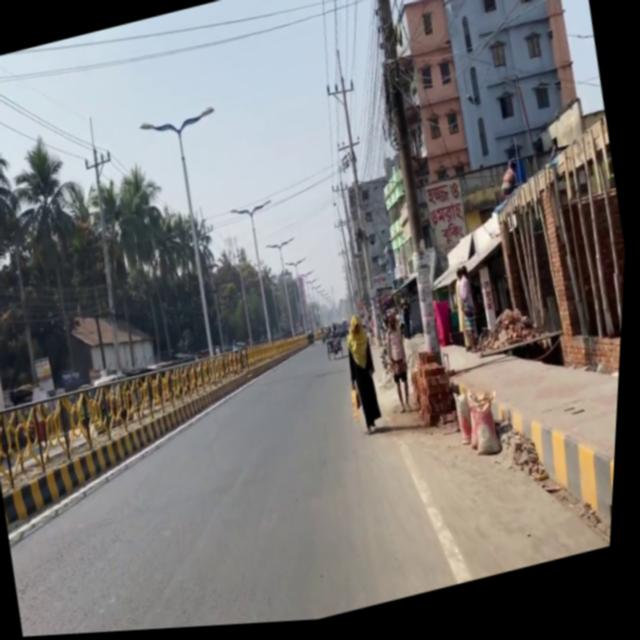Construction-barrier: (492, 375, 623, 576), (59, 407, 210, 507)
Fallen-tree: (326, 335, 350, 365), (234, 340, 251, 356)
Garbage: (408, 349, 466, 436)
Garbage-bin: (340, 315, 393, 440), (381, 317, 424, 421), (450, 269, 489, 361)
Light-pole: (351, 0, 465, 380)
Pole: (0, 318, 267, 530)
Pothole: (395, 288, 627, 595)
